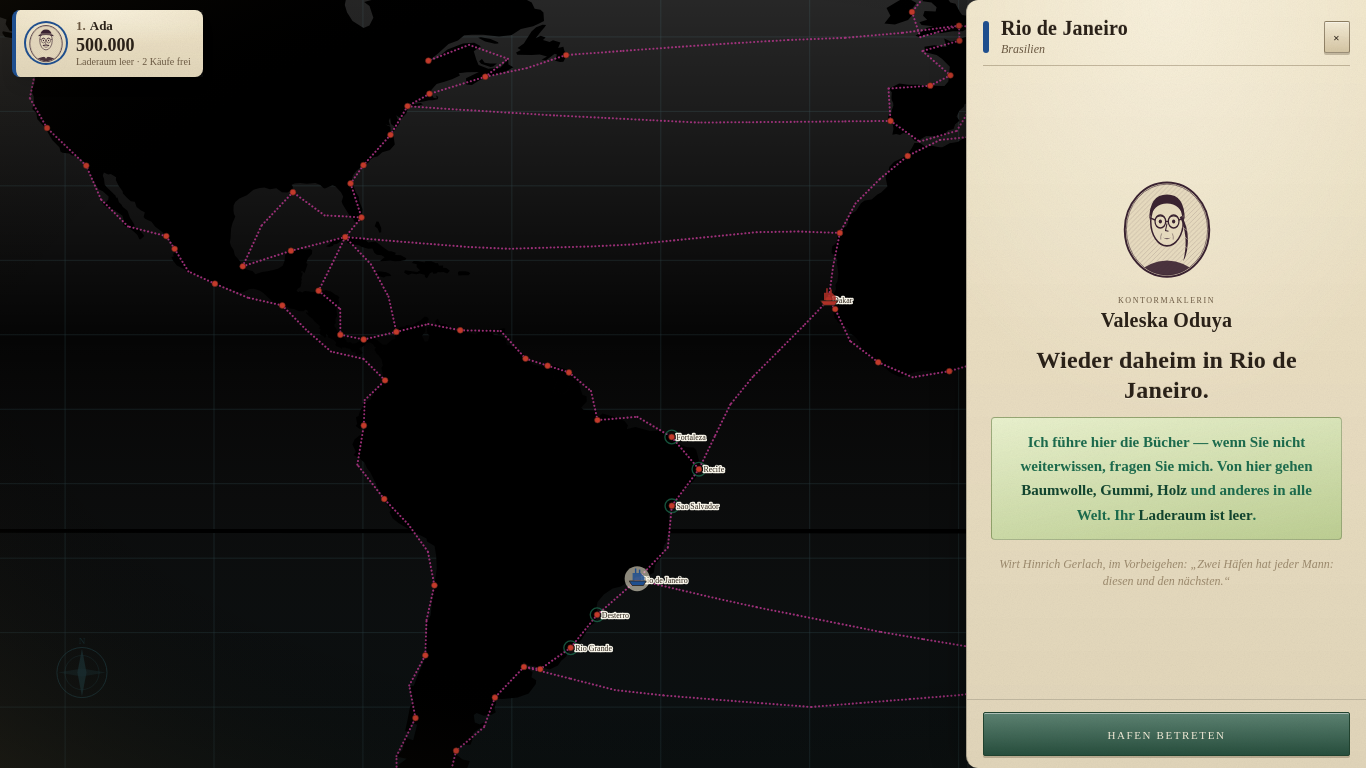
Scenario: the map on a touch screen › never leaves an action button stranded behind the sheet
Click the button "Hafen betreten" at (1166, 734), box x1=983 y1=712 x2=1350 y2=756
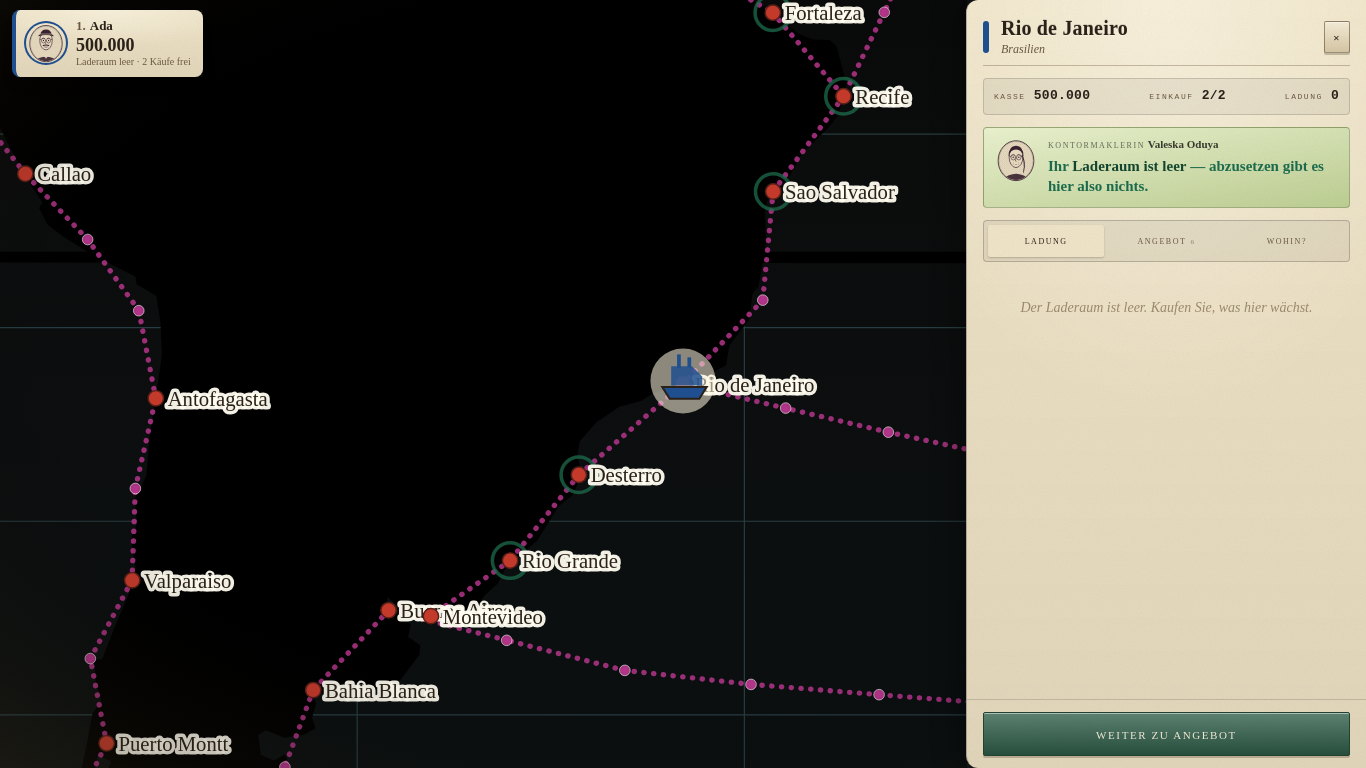
Result: the button "Weiter zu Angebot" is shown at x1=983 y1=712 x2=1350 y2=756
